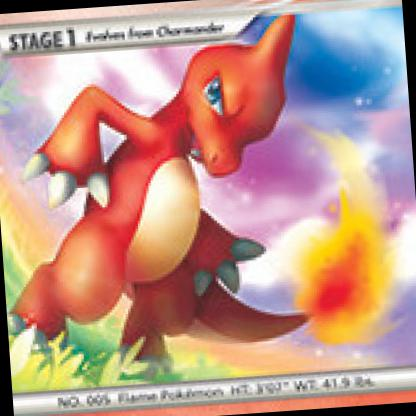Charmeleon: (9, 1, 416, 416)
